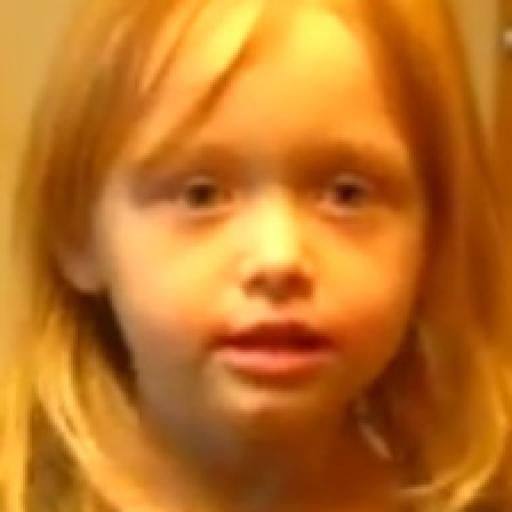Autism: (63, 1, 462, 473)
